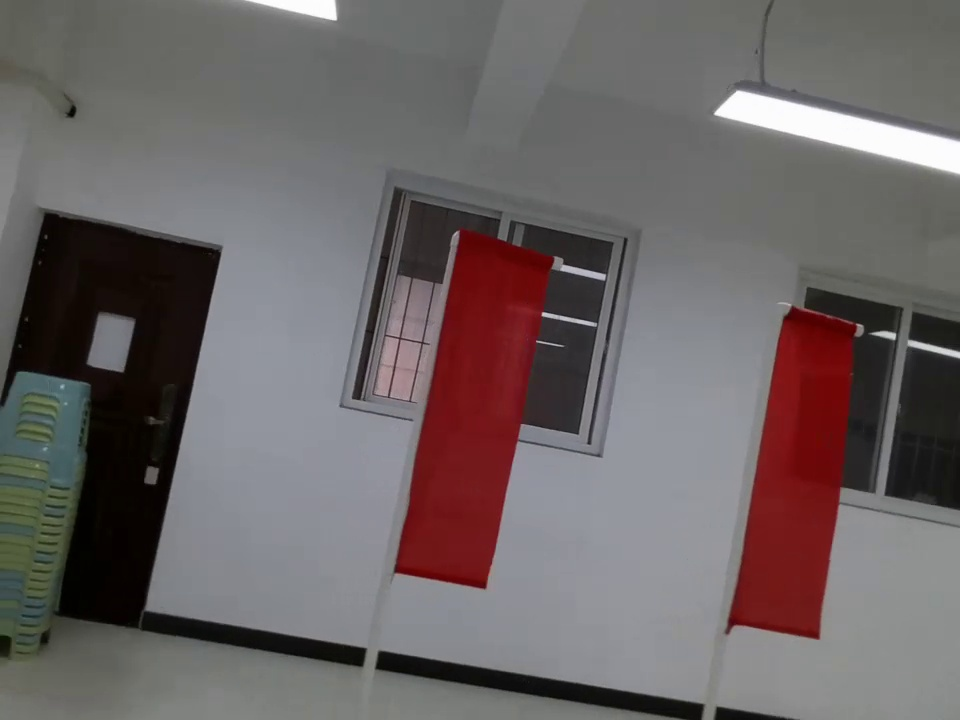qi: (366, 219, 560, 630), (723, 278, 869, 666)
